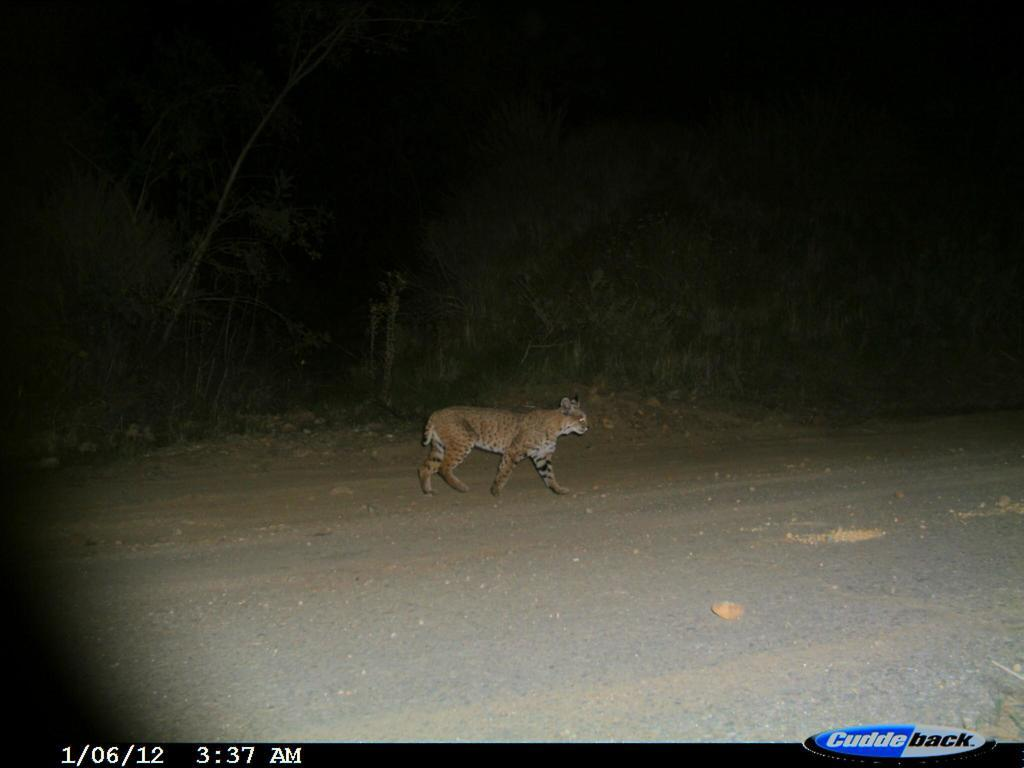bobcat: (413, 397, 598, 504)
